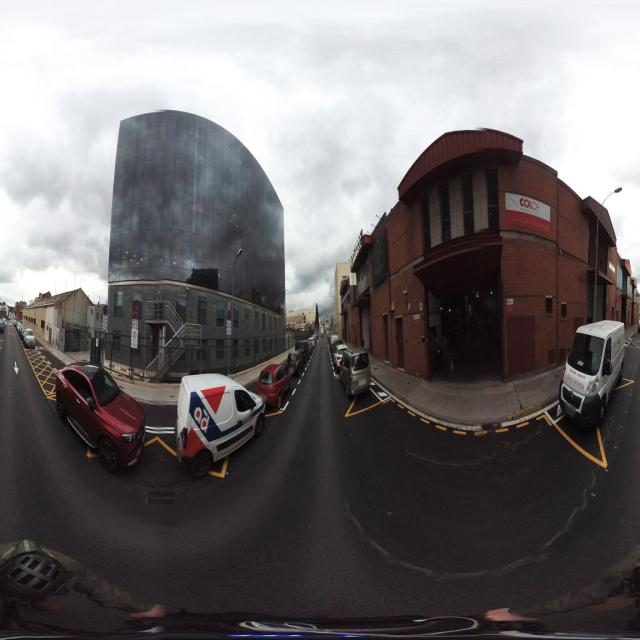forb_stopping: (103, 305, 108, 316), (227, 310, 231, 320)
forb_waiting: (133, 307, 139, 320)
